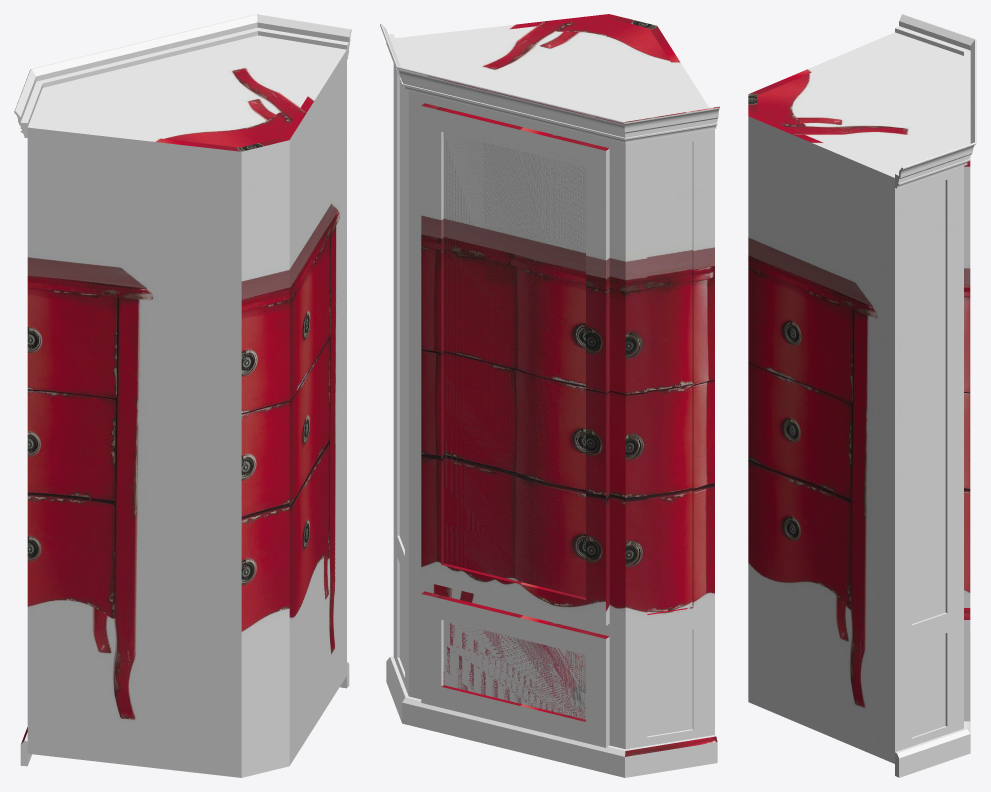
3 renders of one model, left to right at view 1: azimuth 30°, elevation 25°; view 2: azimuth 150°, elevation 25°; view 3: azimuth 270°, elevation 25°, orthographic. The views are drawn at different scales.
Visible parts, largest first — view 1: mesh9_mesh9-geometry, mesh5_mesh5-geometry; view 2: mesh9_mesh9-geometry, mesh7_mesh7-geometry, mesh8_mesh8-geometry, mesh5_mesh5-geometry; view 3: mesh9_mesh9-geometry, mesh5_mesh5-geometry, mesh7_mesh7-geometry, mesh8_mesh8-geometry.
Part boxes in pixels (bbox=[...]): mesh9_mesh9-geometry: bbox=[14, 14, 351, 777]; mesh5_mesh5-geometry: bbox=[38, 39, 335, 147]; mesh9_mesh9-geometry: bbox=[380, 14, 719, 777]; mesh7_mesh7-geometry: bbox=[421, 103, 609, 625]; mesh8_mesh8-geometry: bbox=[421, 591, 609, 747]; mesh5_mesh5-geometry: bbox=[404, 18, 700, 121]; mesh9_mesh9-geometry: bbox=[748, 14, 976, 777]; mesh5_mesh5-geometry: bbox=[757, 37, 955, 172]; mesh7_mesh7-geometry: bbox=[964, 161, 970, 607]; mesh8_mesh8-geometry: bbox=[964, 608, 970, 721].
Size of the model in its own units: 0.4554 by 0.8434 by 0.2851.
